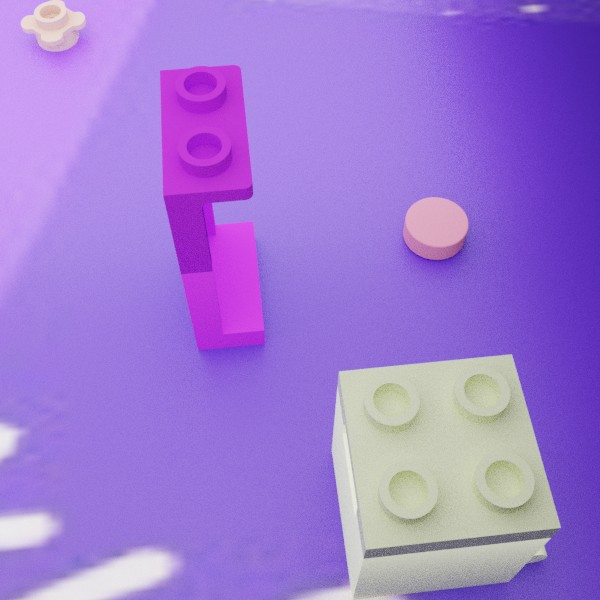lego: (331, 354, 560, 600), (159, 64, 265, 350), (403, 197, 468, 259), (20, 0, 85, 51)
